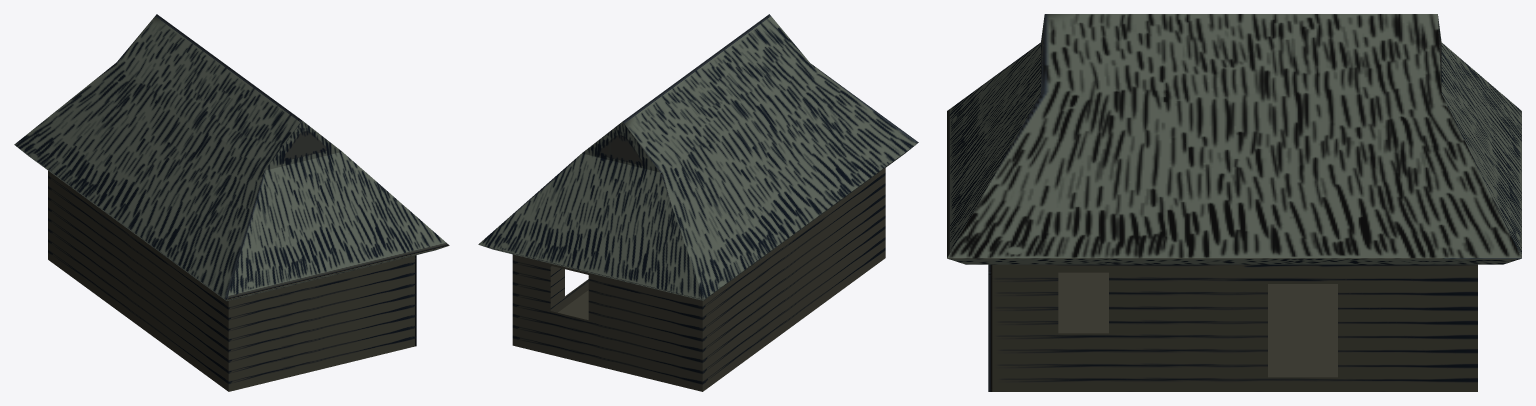
The model's file is tareke.fbx.
3 renders of one model, left to right at view 1: azimuth 30°, elevation 25°; view 2: azimuth 150°, elevation 25°; view 3: azimuth 270°, elevation 25°, orthographic. The views are drawn at different scales.
Visible parts, largest first — view 1: Cube; view 2: Cube; view 3: Cube.
Boxes of the visible parts, bbox=[...] form: Cube: bbox=[14, 14, 449, 391]; Cube: bbox=[478, 14, 918, 391]; Cube: bbox=[947, 14, 1521, 391].
Size of the model in its own units: 143 by 143 by 235.
